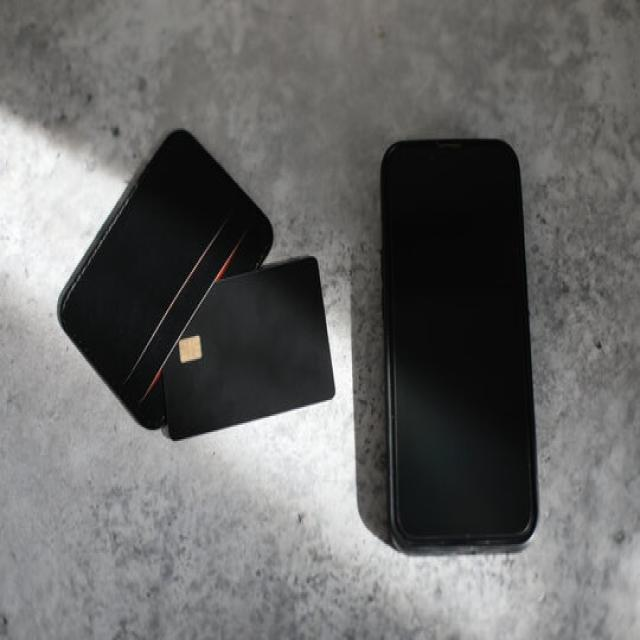payment_card: (160, 254, 336, 441)
